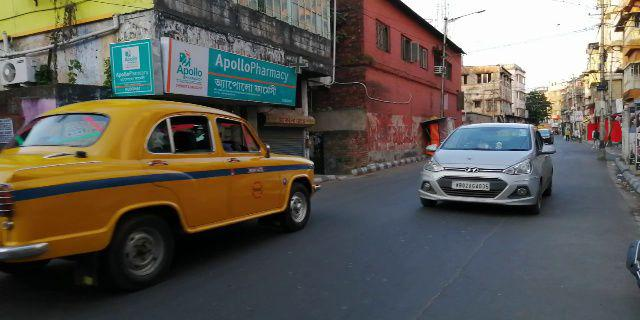Car: (1, 93, 320, 278), (414, 118, 557, 217)
